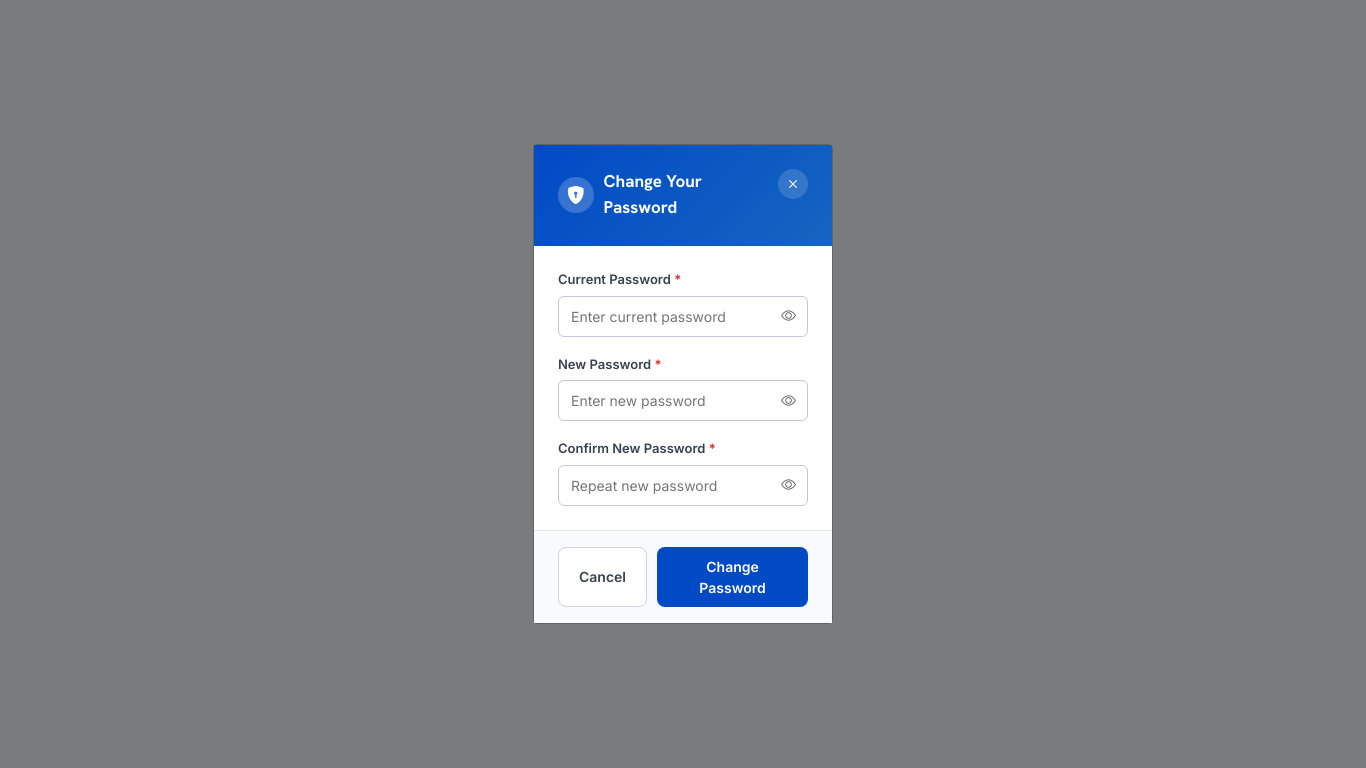
ChangePasswordModal — self service › mismatched confirmation is rejected
The image size is (1366, 768).
Type "old-pass" into the password field with placeholder "Enter current password" at (683, 316), box [558,296,808,337]
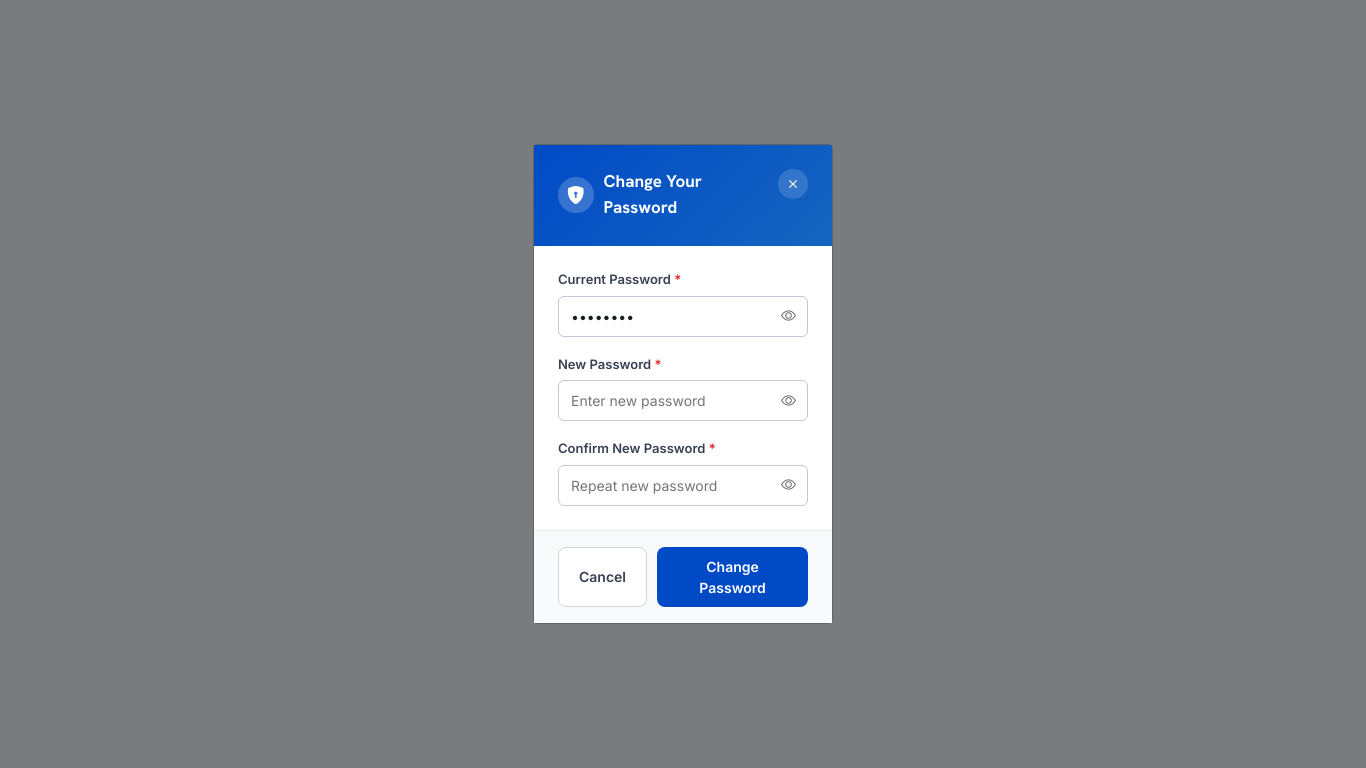
Type "NewPass1!" into the password field with placeholder "Enter new password" at (683, 401), box [558,380,808,421]
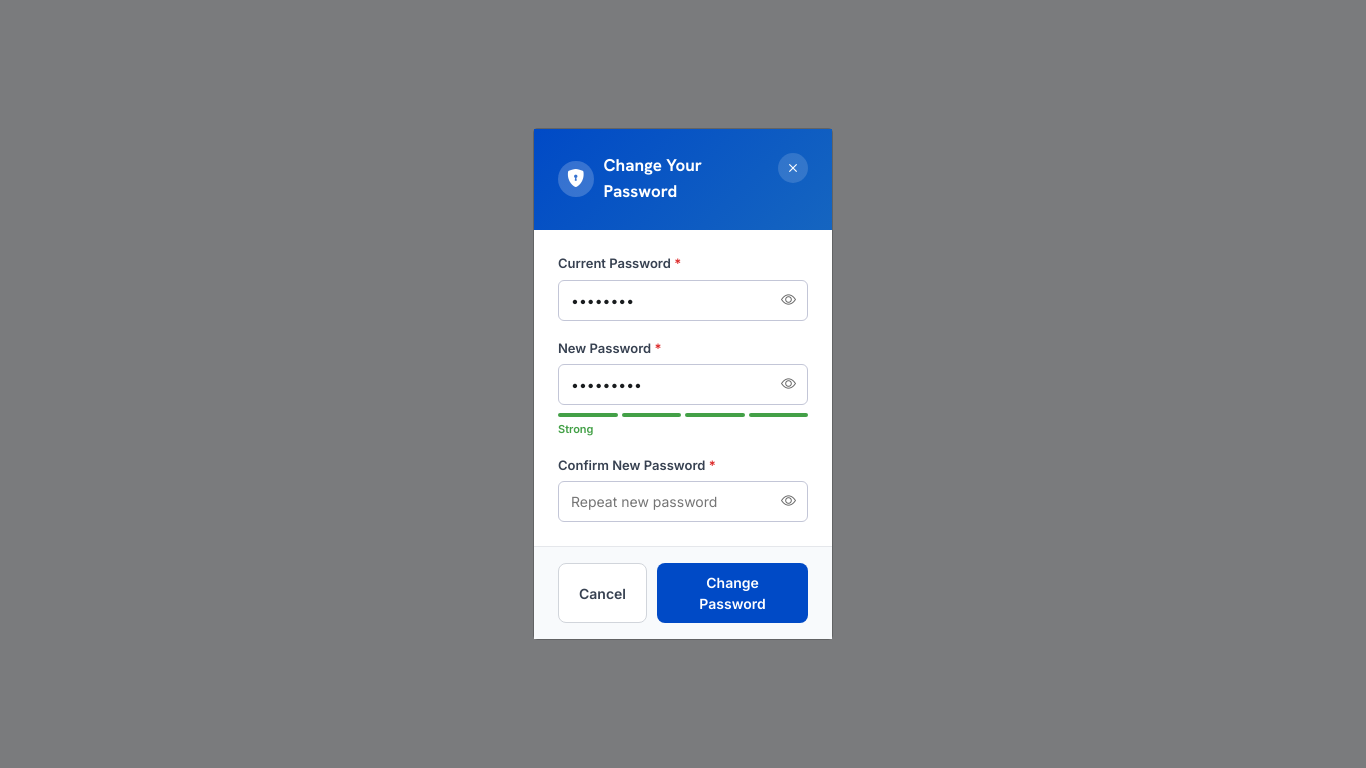
Type "NewPass1?" into the password field with placeholder "Repeat new password" at (683, 502), box [558,481,808,522]
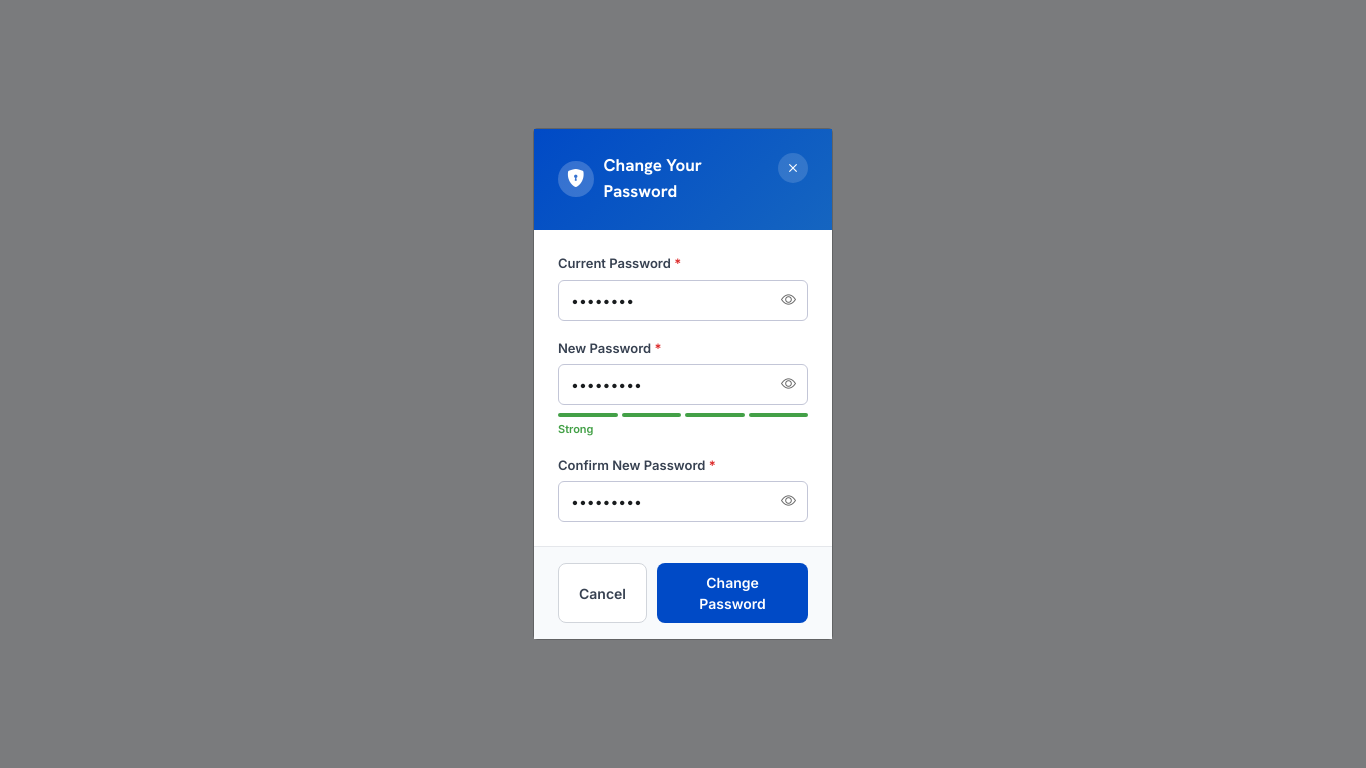
Click the button "Change Password" at (732, 593), box [657,563,808,623]
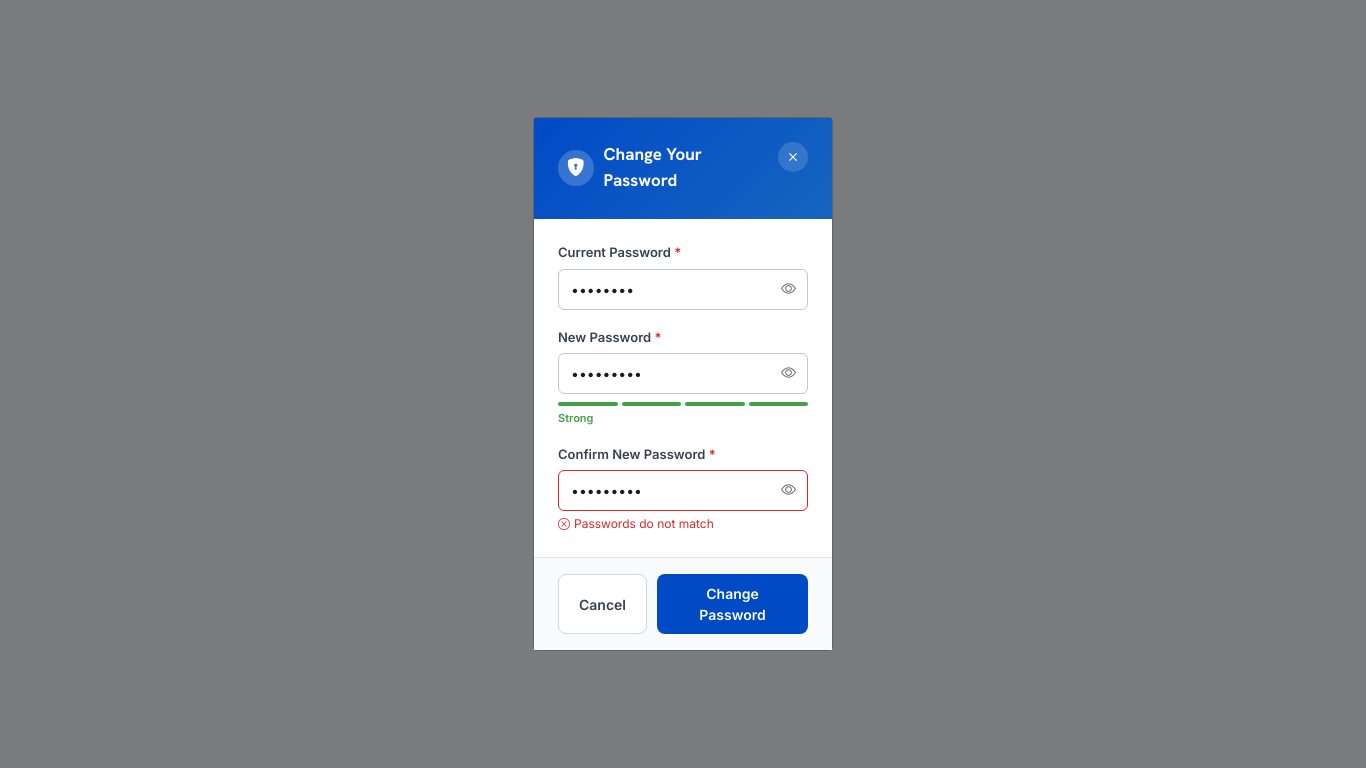
Expected: the text "Passwords do not match" is shown, [558,516,714,531]
